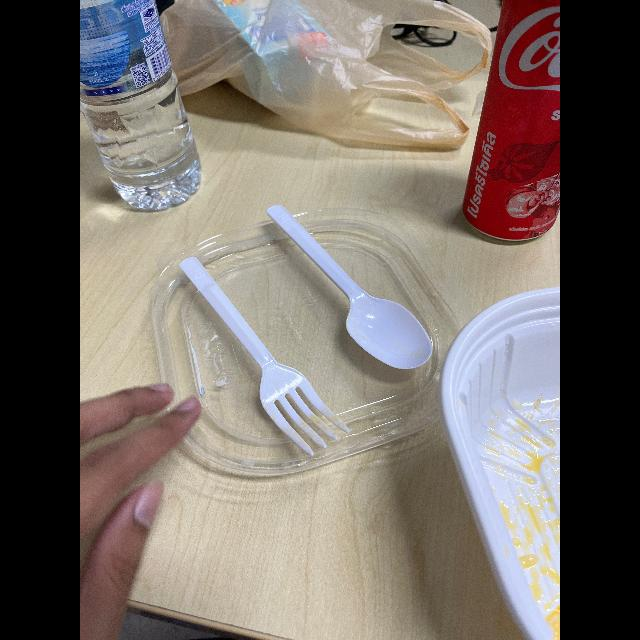plastic_cultery: (171, 252, 351, 456), (261, 197, 441, 373)
